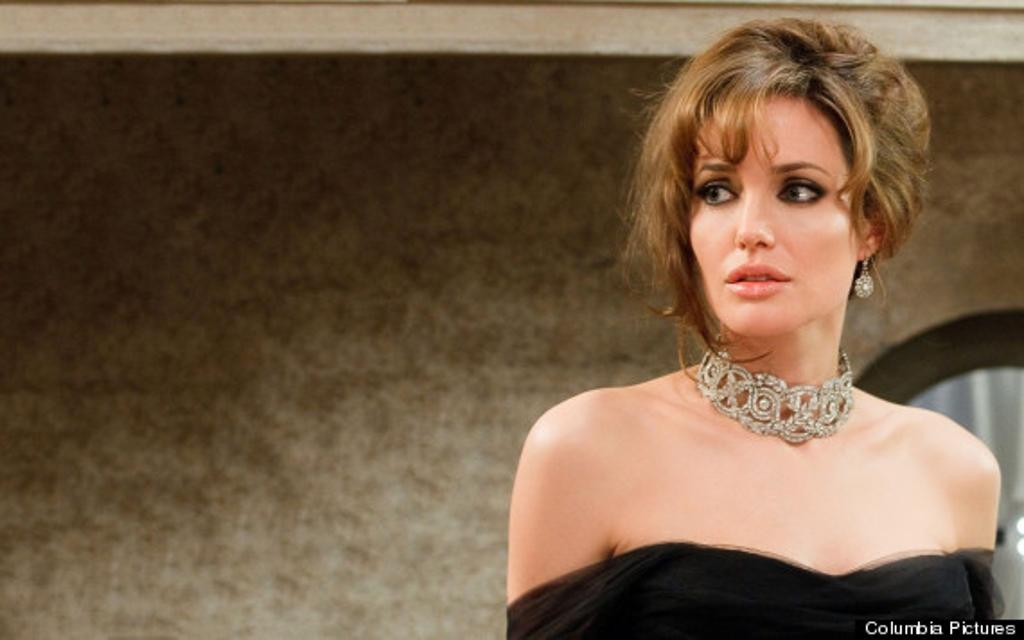face: (688, 108, 858, 336)
